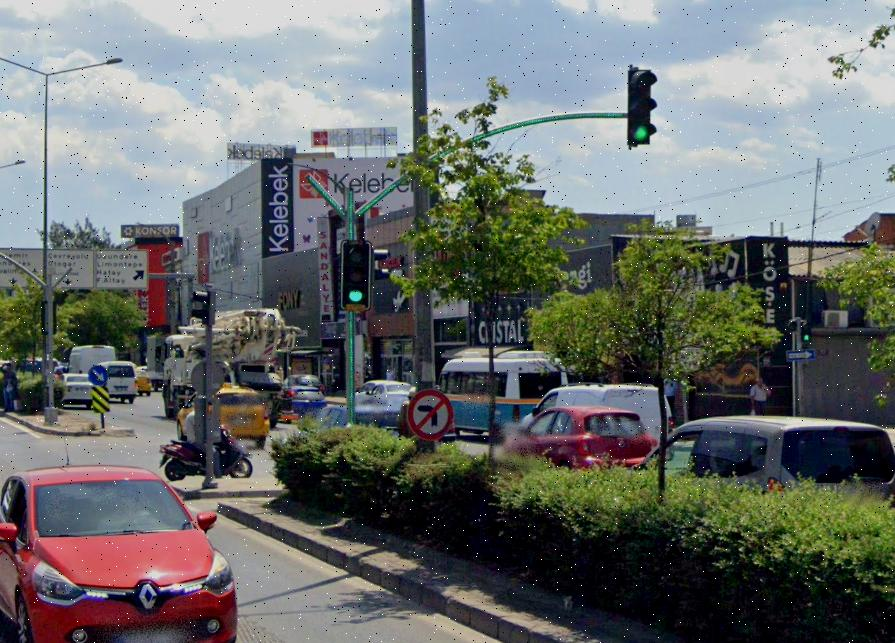greenlight: (627, 64, 657, 151), (340, 240, 369, 309)
leftturnsareforbidden: (407, 389, 452, 435)
